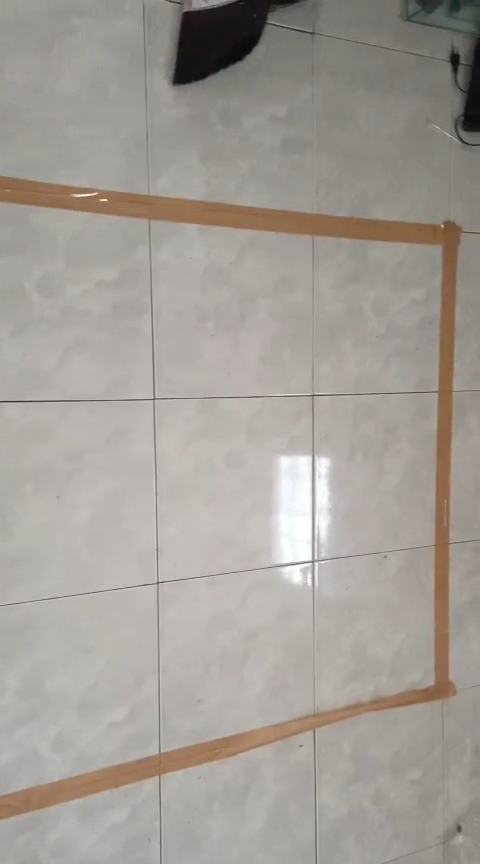floor marking: (0, 177, 460, 818)
